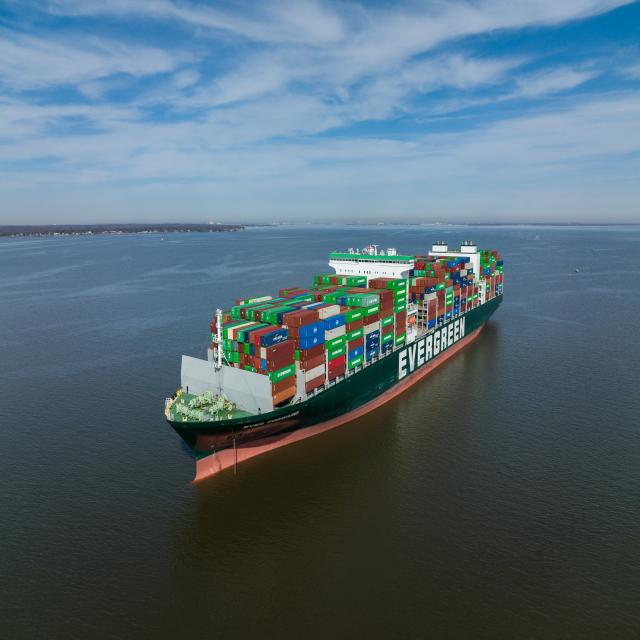boat: (154, 211, 526, 515)
